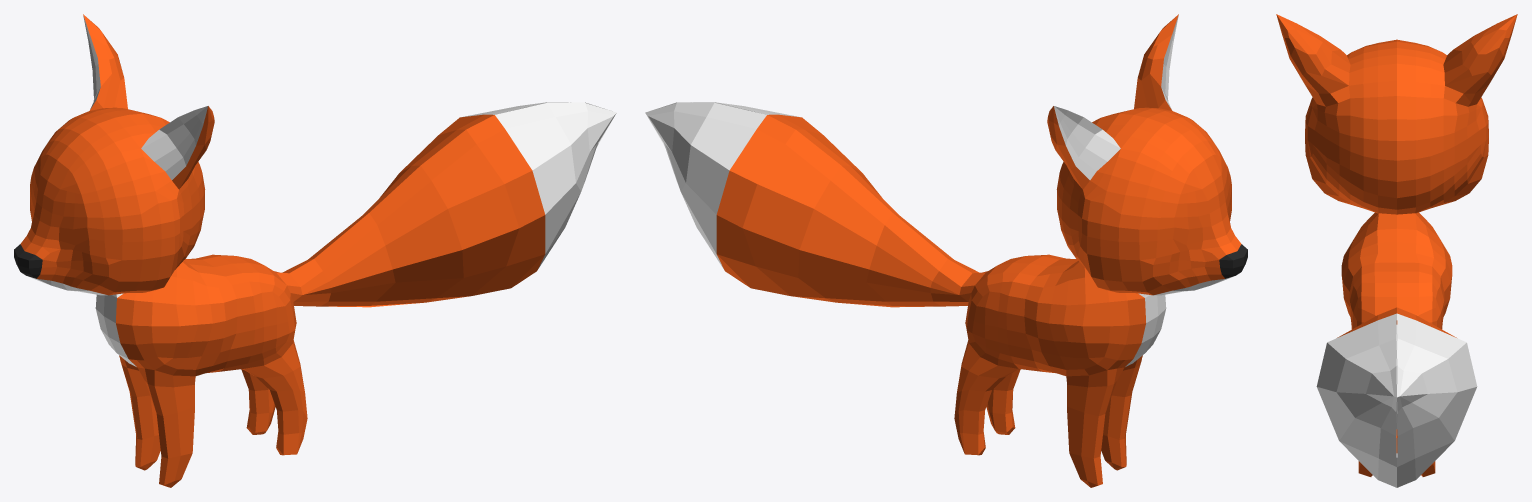
Rendered from low_poly_fox.glb.
3 renders of one model, left to right at view 1: azimuth 30°, elevation 25°; view 2: azimuth 150°, elevation 25°; view 3: azimuth 270°, elevation 25°, orthographic. The views are drawn at different scales.
Parts seen in each view (by area): view 1: Plane_2; view 2: Plane_2; view 3: Plane_2.
Boxes of the visible parts, bbox=[...] form: Plane_2: bbox=[14, 14, 616, 487]; Plane_2: bbox=[645, 14, 1247, 487]; Plane_2: bbox=[1276, 14, 1517, 487].
Bounding box in the file's own units: 1.07 × 0.7223 × 0.3891.
